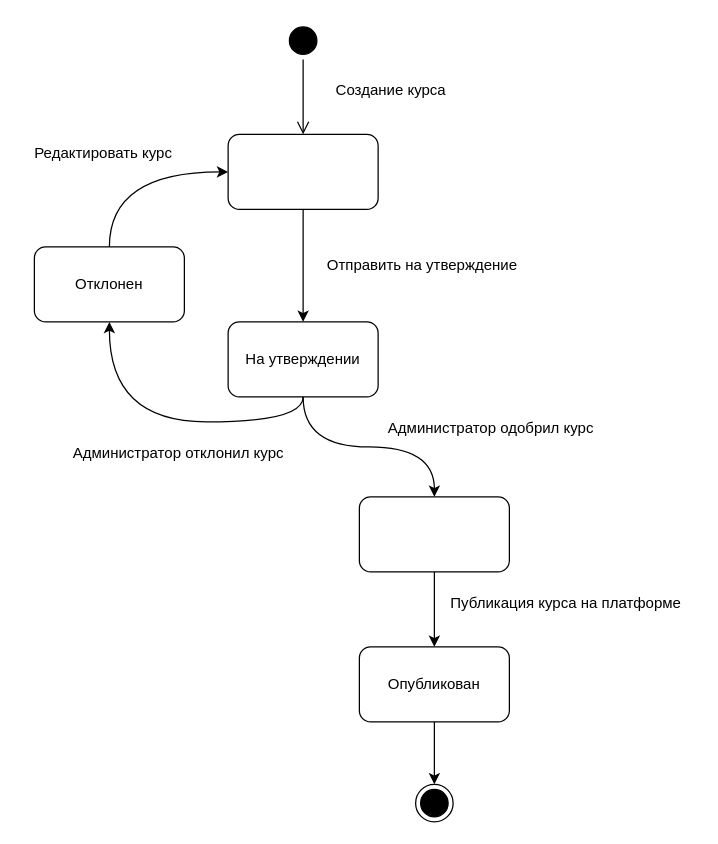
This 718x844 diagram has some shape labels left out. The centre of each missing label's shape, as x and y in pixels:
"Одобрен" goes at [433,534].
"Черновик" goes at [302,171].
